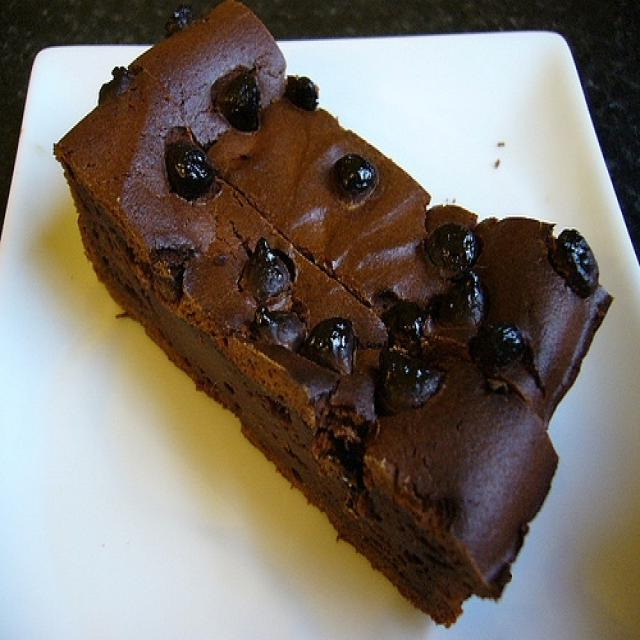蛋糕甜品: (37, 20, 598, 612)
